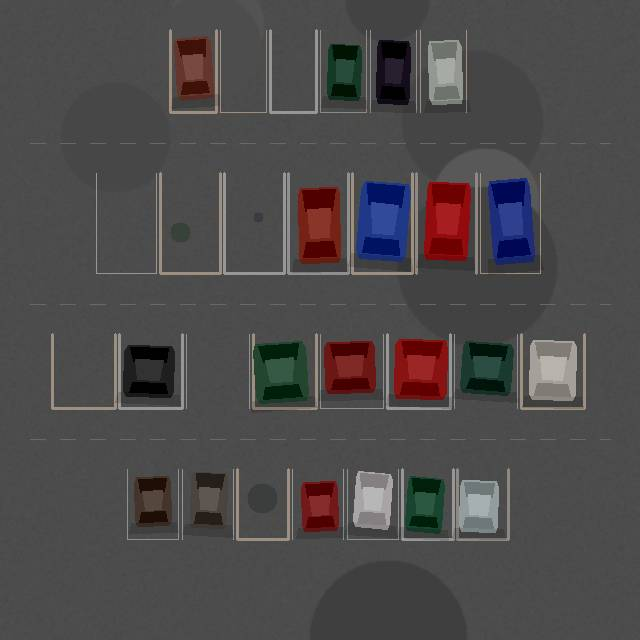space-empty: (96, 173, 156, 273), (160, 173, 220, 273), (224, 173, 284, 273), (52, 334, 115, 408), (186, 334, 249, 408), (220, 30, 266, 112), (270, 30, 316, 112), (237, 469, 288, 539)
space-occupied: (288, 173, 348, 273), (352, 173, 412, 273), (416, 173, 476, 273), (480, 173, 540, 273), (119, 334, 182, 408), (253, 334, 316, 408), (320, 334, 383, 408), (387, 334, 450, 408), (454, 334, 517, 408), (521, 334, 584, 408), (170, 30, 216, 112), (320, 30, 366, 112), (370, 30, 416, 112), (420, 30, 466, 112), (127, 469, 178, 539), (182, 469, 233, 539), (292, 469, 343, 539), (347, 469, 398, 539), (402, 469, 453, 539), (457, 469, 508, 539)
